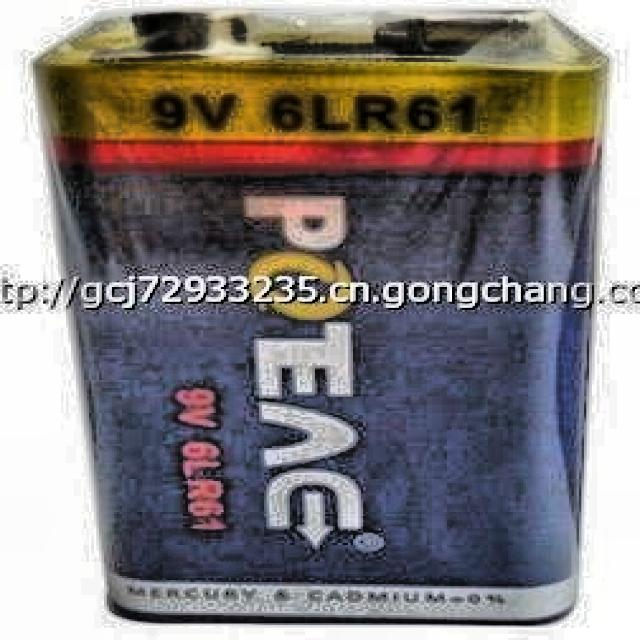Non-Valuable Waste - Batteries: (35, 7, 606, 622)
